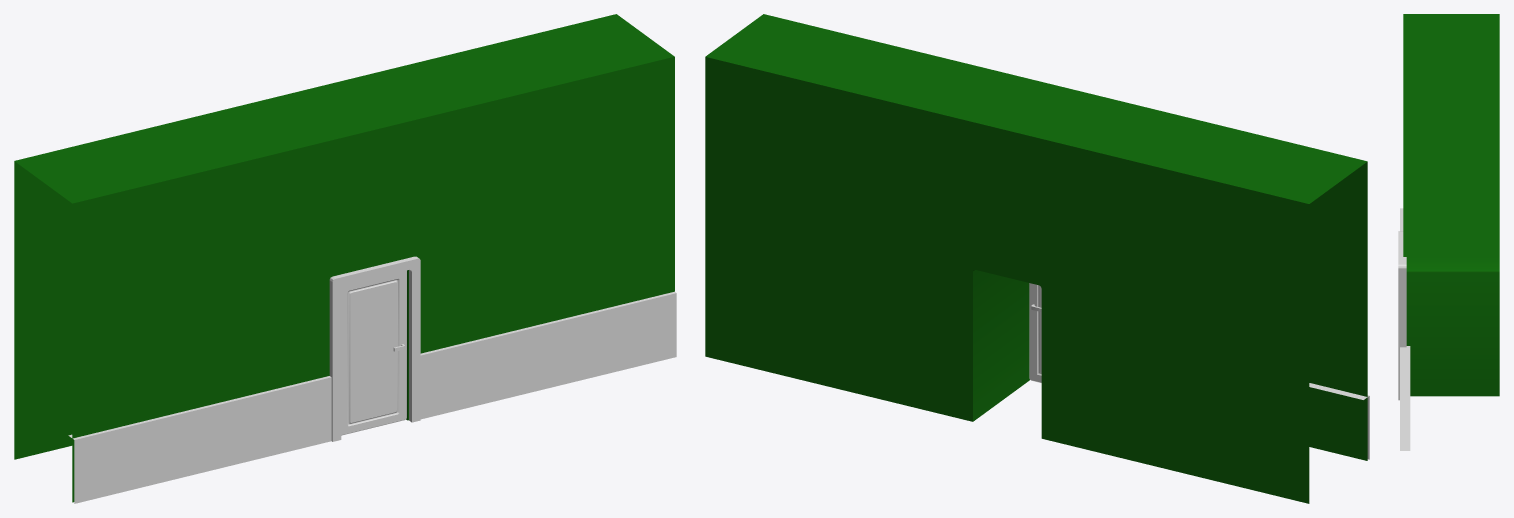
Rendered from wall_with_door room 3.fbx.
The picture shows the model from 3 angles, left to right: view 1: azimuth 30°, elevation 25°; view 2: azimuth 150°, elevation 25°; view 3: azimuth 270°, elevation 25°; orthographic projection. The views are drawn at different scales.
Visible parts, largest first — view 1: wall_with_door, door; view 2: wall_with_door, door; view 3: wall_with_door.
Part boxes in pixels (bbox=[...]): wall_with_door: bbox=[14, 14, 676, 503]; door: bbox=[341, 270, 406, 435]; wall_with_door: bbox=[705, 14, 1369, 503]; door: bbox=[1029, 283, 1041, 382]; wall_with_door: bbox=[1398, 14, 1499, 450].
Size of the model in its own units: 12.5 by 5.93 by 2.2.
